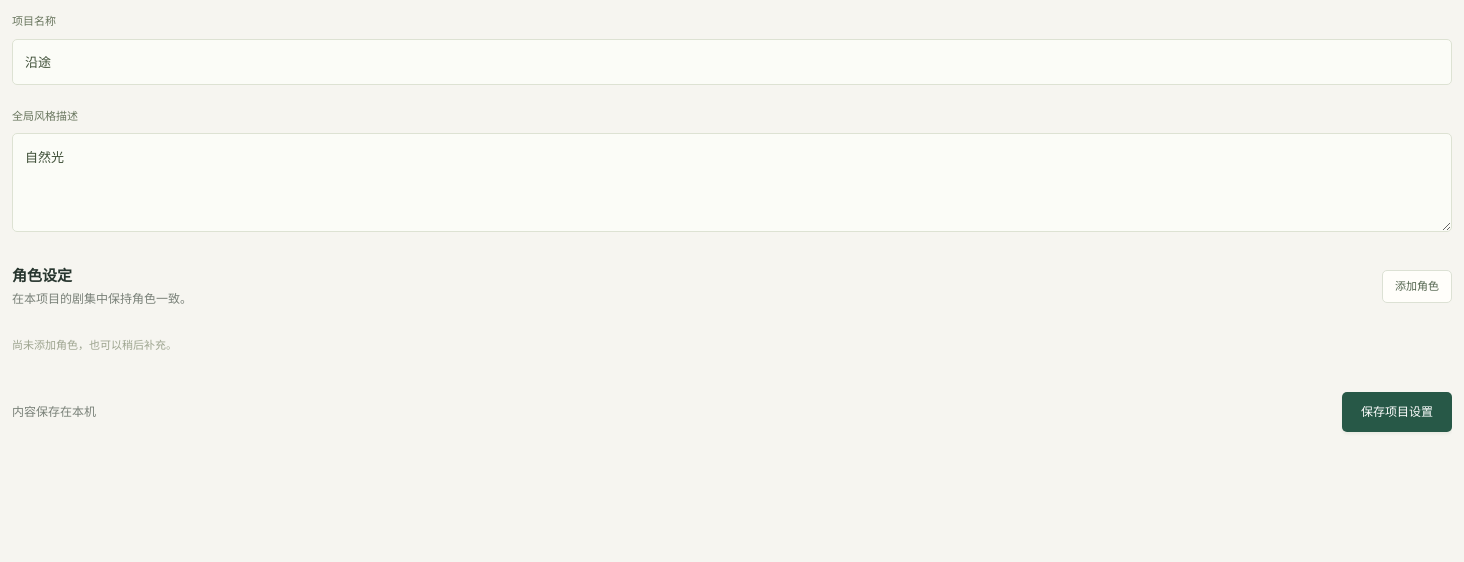
Test case: 409保留人工修改和原已查看版本
Replace the text in the text box labelled "全局风格描述" with "改成暖色自然光": (732, 183) 12,134 -> 1452,232
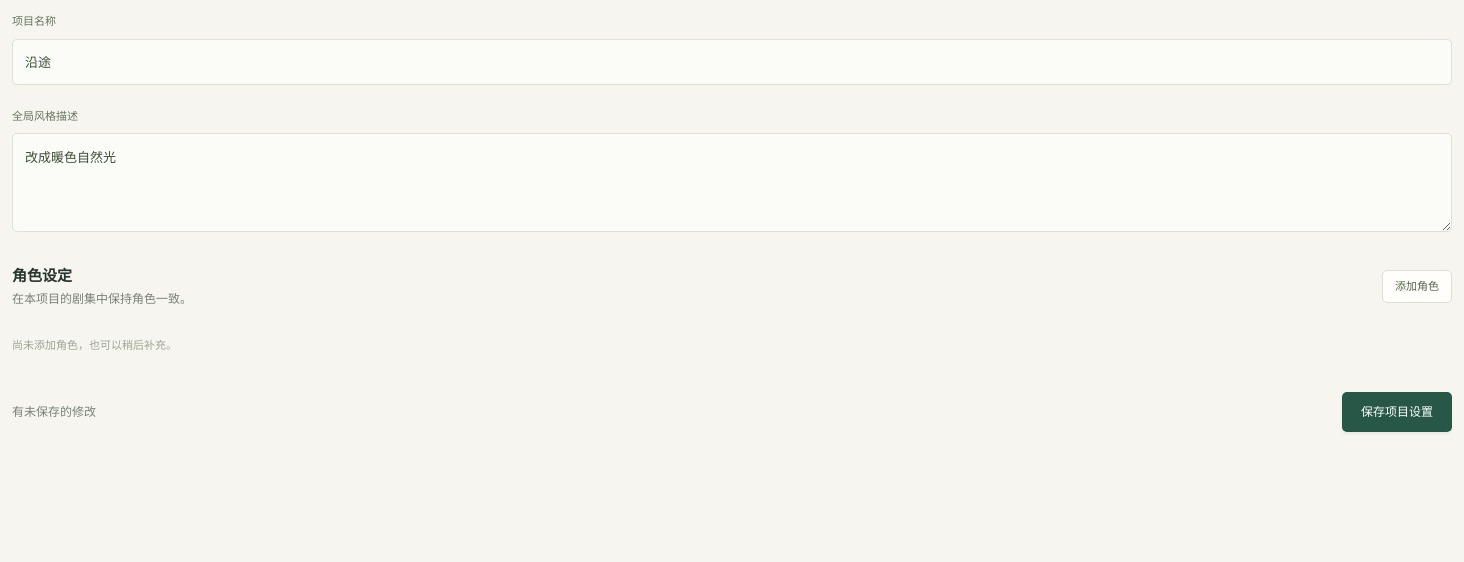
Click the button "保存项目设置": (1397, 412) 1342,392 -> 1452,432
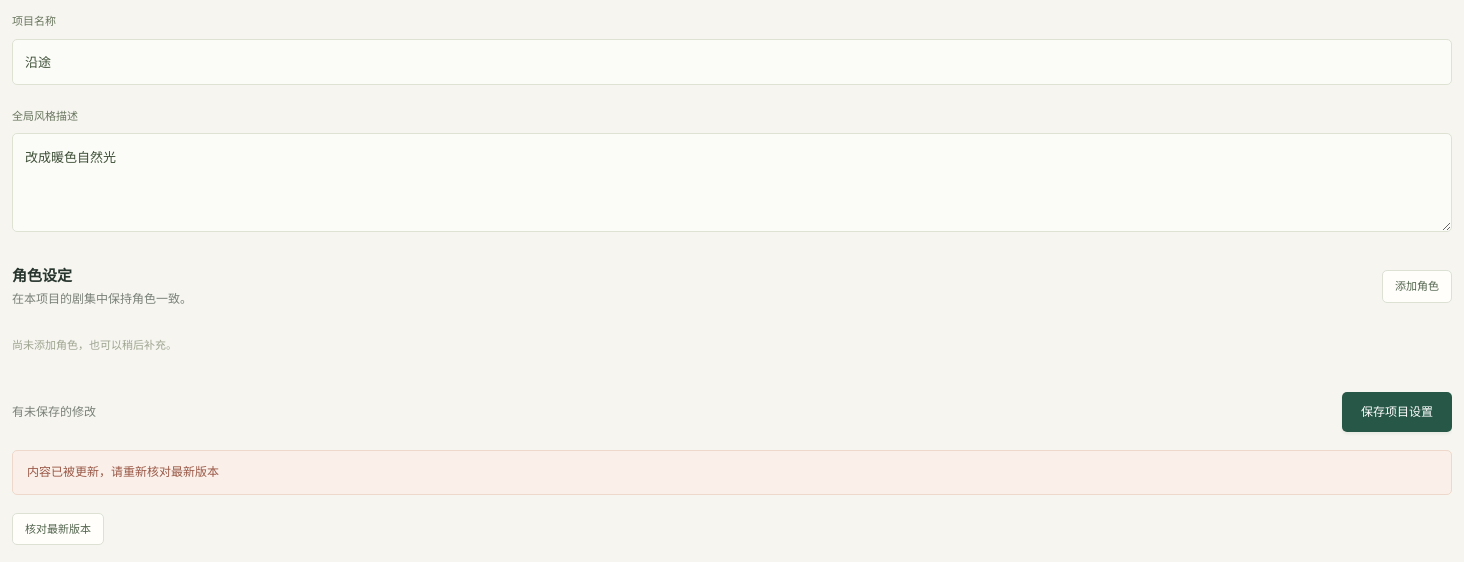
Expected: the message shows "内容已被更新", 27,464 -> 219,479
